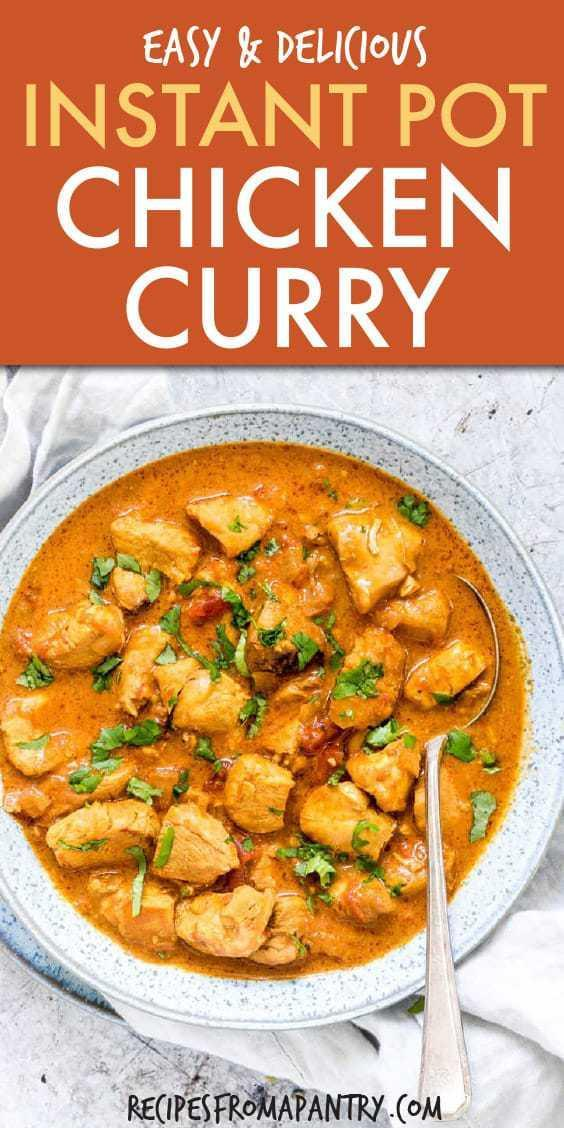chicken: (13, 445, 540, 993)
